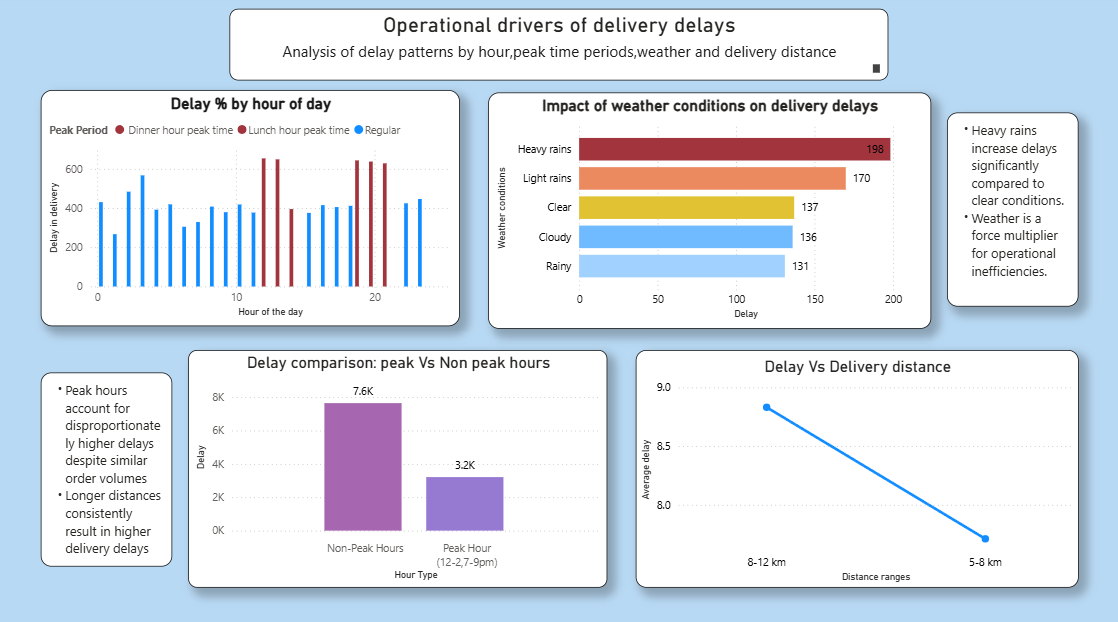

Layout of this report page (visuals, bound fields, positions):
{"tool":"powerbi","page":{"name":"Operational analysis","canvas":[1280,720],"ordinal":1},"visuals":[{"type":"clusteredColumnChart","title":"Delay % by hour of day","fields":{"Category":["public v_hourly_patterns.hour_of_day"],"Y":["Sum(public v_hourly_patterns.delivery_percentage)"],"Series":["public v_hourly_patterns.Peak Period"]},"box":[49.8,108.6,477,268.7],"z":0},{"type":"clusteredBarChart","title":"Impact of weather conditions on delivery delays","fields":{"Category":["public v_weather_impact.weather_condition"],"Y":["Sum(public v_weather_impact.delay_percentage)"]},"box":[558.9,110.3,503.7,268.7],"z":1000},{"type":"clusteredColumnChart","title":"Delay comparison: peak Vs Non peak hours","fields":{"Category":["public v_hourly_patterns.Hour Type"],"Y":["Sum(public v_hourly_patterns.delivery_percentage)"]},"box":[217.1,404,477,270.5],"z":2000},{"type":"lineChart","title":"Delay Vs Delivery distance","fields":{"Category":["public v_locality_performance.Distance range"],"Y":["Avg(public v_locality_performance.avg_distance)"]},"box":[726.2,404,503.7,270.5],"z":3000},{"type":"textbox","title":"Operational drivers of delivery delays","box":[265.2,16,749.3,81.9],"z":4000},{"type":"textbox","box":[1080.3,133.5,149.5,220.7],"z":5000},{"type":"textbox","box":[49.8,428.9,149.5,220.7],"z":6000}]}

Visuals, with their boxes in screenshot pixels (x1, y1, x2, y2), scaled from the page's 1280x720 canvas onto the 1118x622 screenshot:
"Delay % by hour of day" clusteredColumnChart: bbox=[43, 94, 460, 326]
"Impact of weather conditions on delivery delays" clusteredBarChart: bbox=[488, 95, 928, 327]
"Delay comparison: peak Vs Non peak hours" clusteredColumnChart: bbox=[190, 349, 606, 583]
"Delay Vs Delivery distance" lineChart: bbox=[634, 349, 1074, 583]
"Operational drivers of delivery delays" textbox: bbox=[232, 14, 886, 85]
textbox: bbox=[944, 115, 1074, 306]
textbox: bbox=[43, 371, 174, 561]
